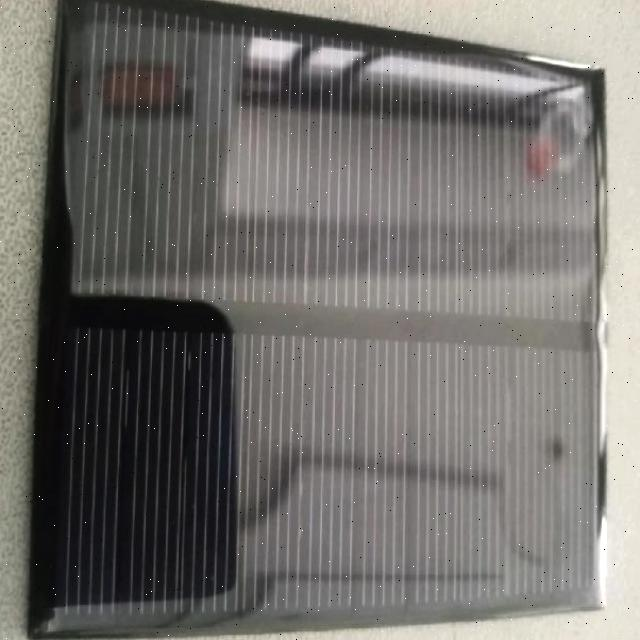Normal Solar Panel: (31, 0, 605, 639)
